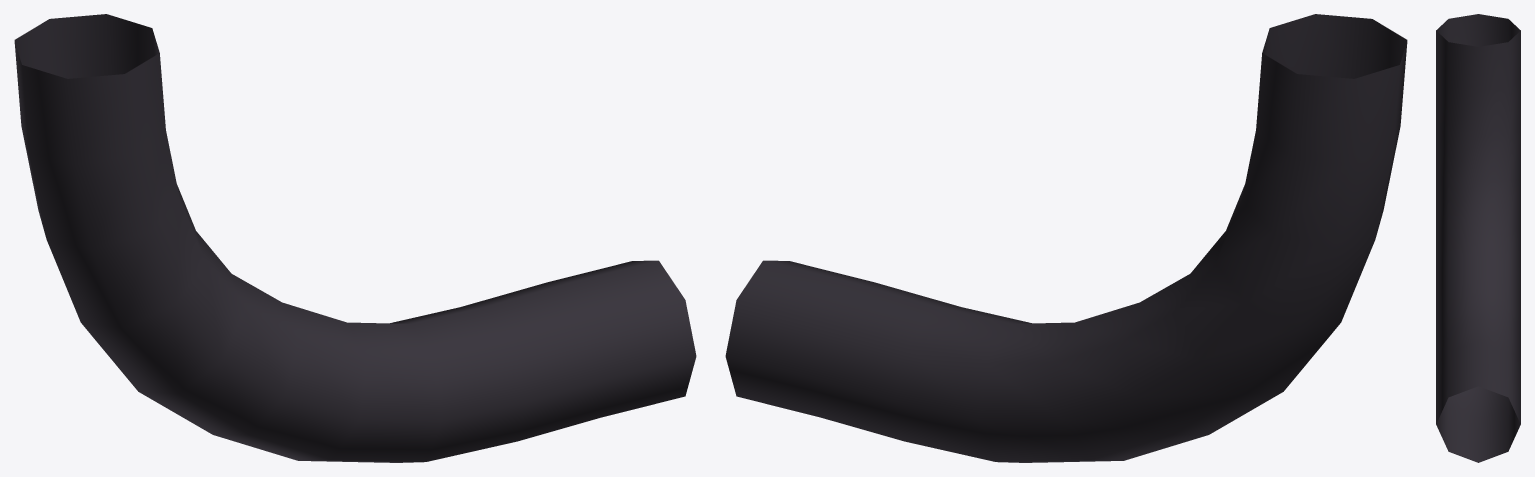
Rendered from Incubator cable.fbx.
The picture shows the model from 3 angles, left to right: view 1: azimuth 30°, elevation 25°; view 2: azimuth 150°, elevation 25°; view 3: azimuth 270°, elevation 25°; orthographic projection. The views are drawn at different scales.
Parts seen in each view (by area): view 1: Cable_Incubator; view 2: Cable_Incubator; view 3: Cable_Incubator.
Part boxes in pixels (<box>): Cable_Incubator: <box>14,14,696,462</box>; Cable_Incubator: <box>725,14,1407,462</box>; Cable_Incubator: <box>1436,14,1520,462</box>.
Bounding box in the file's own units: 14.57 × 10.86 × 2.98.
1 material, 1 textured.
